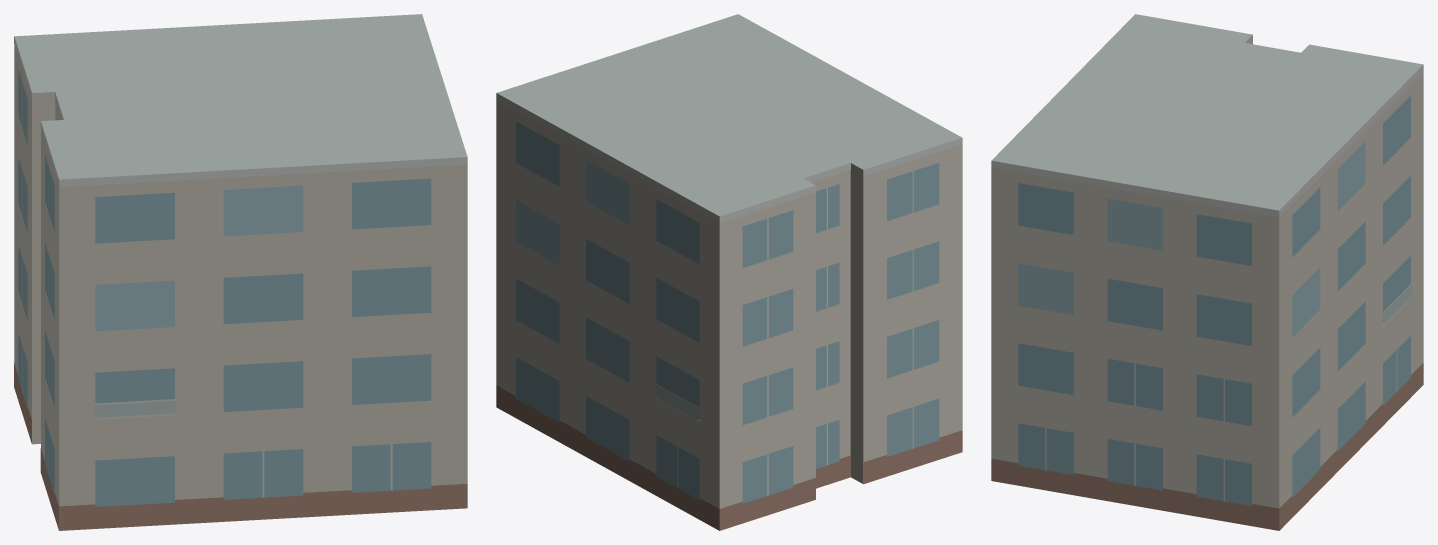
File: survey-upis-32503646.glb
The picture shows the model from 3 angles, left to right: view 1: azimuth 30°, elevation 25°; view 2: azimuth 150°, elevation 25°; view 3: azimuth 270°, elevation 25°; orthographic projection. The views are drawn at different scales.
Visible parts, largest first — view 1: survey-upis-32503646.tmp; view 2: survey-upis-32503646.tmp; view 3: survey-upis-32503646.tmp.
Boxes of the visible parts, x1=… form: survey-upis-32503646.tmp: x1=14, y1=14, x2=467, y2=530; survey-upis-32503646.tmp: x1=496, y1=14, x2=962, y2=530; survey-upis-32503646.tmp: x1=991, y1=14, x2=1423, y2=530.
Bounding box in the file's own units: 14.91 × 11.32 × 13.86.
